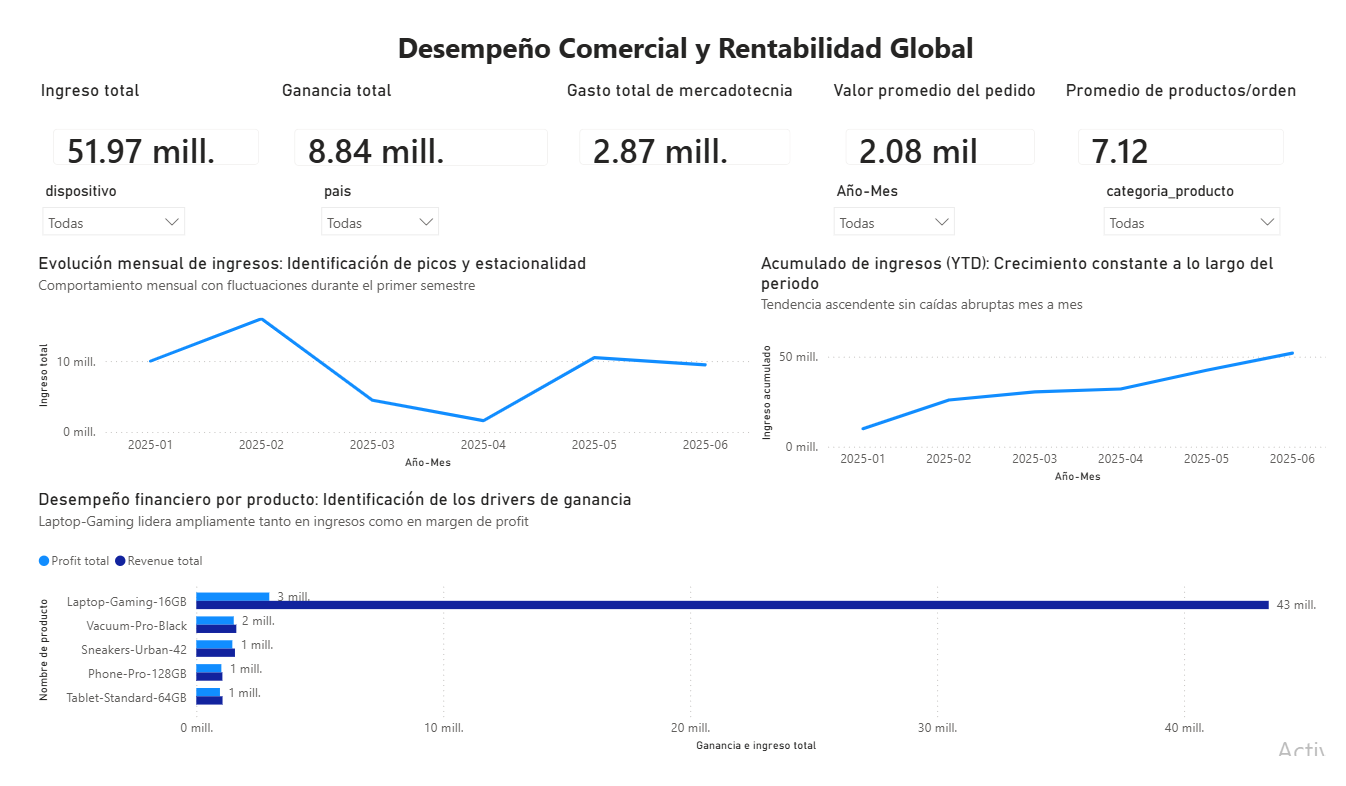

What the dashboard file says about the page in this screenshot:
{"tool":"powerbi","page":{"name":"Resumen Ejecutivo","canvas":[1280,720],"ordinal":0},"visuals":[{"type":"cardVisual","title":"Ingreso total","fields":{"Data":["orders_clean.Revenue total"]},"box":[12.6,66.8,233.4,100],"z":0},{"type":"cardVisual","title":"Ganancia total","fields":{"Data":["orders_clean.Profit total"]},"box":[244.4,66.2,279.1,100.9],"z":1000},{"type":"cardVisual","title":"Gasto total de mercadotecnia ","fields":{"Data":["marketing_clean.Gasto total en marketing"]},"box":[520.3,66.2,238.1,99.3],"z":2000},{"type":"cardVisual","title":"Valor promedio del pedido","fields":{"Data":["orders_clean.Ticket promedio"]},"box":[776.9,66.8,217.6,100],"z":3000},{"type":"cardVisual","title":"Promedio de productos/orden","fields":{"Data":["orders_clean.Cantidad promedio de productos por orden"]},"box":[1001.2,66.8,233.4,100],"z":4000},{"type":"lineChart","title":"Evolución mensual de ingresos: Identificación de picos y estacionalidad","fields":{"Category":["Dim_Fecha.Año-Mes"],"Y":["orders_clean.Revenue total"]},"box":[9.5,233.4,696.9,212.9],"z":5000},{"type":"lineChart","title":"Acumulado de ingresos (YTD): Crecimiento constante a lo largo del periodo","fields":{"Category":["Dim_Fecha.Año-Mes"],"Y":["orders_clean.Revenue YTD"]},"box":[706.4,233.4,556.6,227.1],"z":6000},{"type":"clusteredBarChart","title":"Desempeño financiero por producto: Identificación de los drivers de ganancia","fields":{"Category":["catalog_clean.nombre_producto"],"Y":["orders_clean.Profit total","orders_clean.Revenue total"]},"box":[9.5,460.4,1270.9,258.6],"z":7000},{"type":"slicer","fields":{"Values":["catalog_clean.categoria_producto"]},"box":[1032.2,160,190.8,63.1],"z":8000},{"type":"slicer","fields":{"Values":["Dim_Fecha.Año-Mes"]},"box":[772.1,160.4,137.2,63.1],"z":9000},{"type":"slicer","fields":{"Values":["orders_clean.pais"]},"box":[277,160.4,134,63.1],"z":10000},{"type":"slicer","fields":{"Values":["orders_clean.dispositivo"]},"box":[8.9,160,157.7,63.1],"z":11000},{"type":"textbox","box":[144.1,12.6,991.8,48.9],"z":12000}]}

Visuals, with their boxes on the page's 1280x720 design canvas (x1, y1, x2, y2). These are canvas units, not pixel positions in the 1346x786 screenshot, which may show the page scaled, cropped or inside an application window:
"Ingreso total" cardVisual: l=13, t=67, r=246, b=167
"Ganancia total" cardVisual: l=244, t=66, r=524, b=167
"Gasto total de mercadotecnia " cardVisual: l=520, t=66, r=758, b=166
"Valor promedio del pedido" cardVisual: l=777, t=67, r=994, b=167
"Promedio de productos/orden" cardVisual: l=1001, t=67, r=1235, b=167
"Evolución mensual de ingresos: Identificación de picos y estacionalidad" lineChart: l=10, t=233, r=706, b=446
"Acumulado de ingresos (YTD): Crecimiento constante a lo largo del periodo" lineChart: l=706, t=233, r=1263, b=460
"Desempeño financiero por producto: Identificación de los drivers de ganancia" clusteredBarChart: l=10, t=460, r=1280, b=719
slicer - catalog_clean.categoria_producto: l=1032, t=160, r=1223, b=223
slicer - Dim_Fecha.Año-Mes: l=772, t=160, r=909, b=224
slicer - orders_clean.pais: l=277, t=160, r=411, b=224
slicer - orders_clean.dispositivo: l=9, t=160, r=167, b=223
textbox: l=144, t=13, r=1136, b=62
